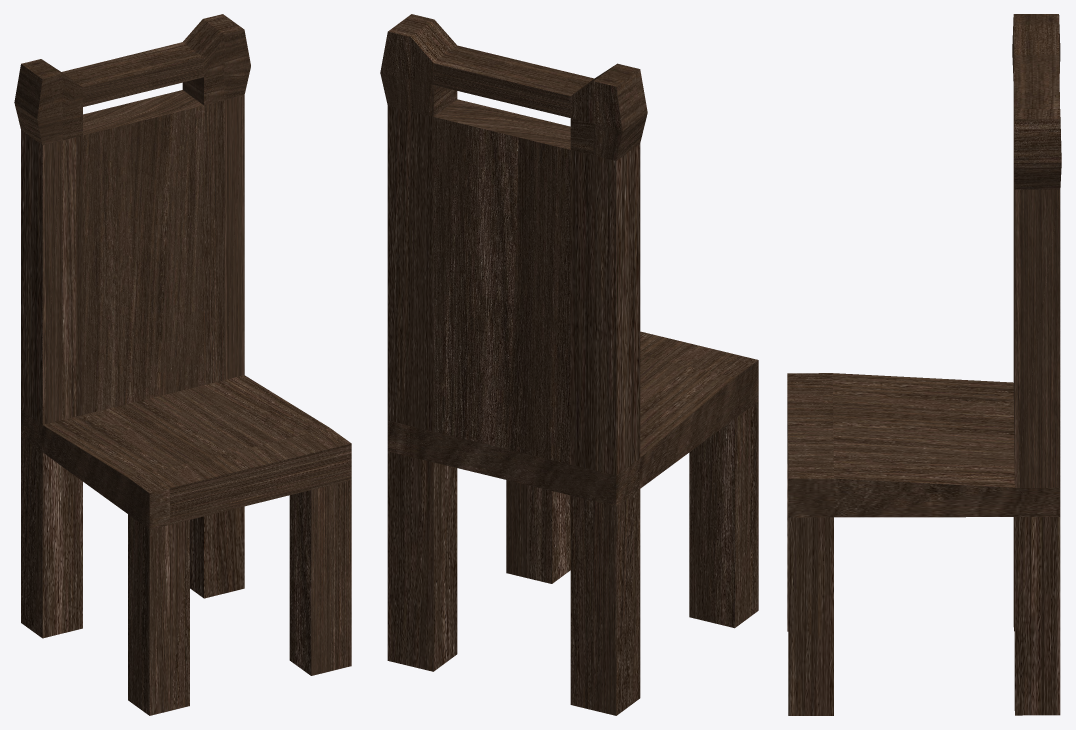
File: Chair2.fbx
The picture shows the model from 3 angles, left to right: view 1: azimuth 30°, elevation 25°; view 2: azimuth 150°, elevation 25°; view 3: azimuth 270°, elevation 25°; orthographic projection. The views are drawn at different scales.
Parts seen in each view (by area): view 1: Cube.004; view 2: Cube.004; view 3: Cube.004.
Boxes of the visible parts, x1=… form: Cube.004: x1=14, y1=14, x2=351, y2=715; Cube.004: x1=380, y1=14, x2=758, y2=715; Cube.004: x1=787, y1=14, x2=1061, y2=715.
Size of the model in its own units: 210 by 522 by 218.
